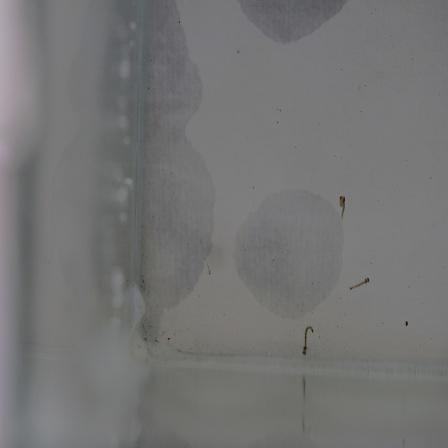Jentik-Nyamuk: (299, 323, 322, 359), (346, 273, 375, 295), (334, 192, 350, 223)
